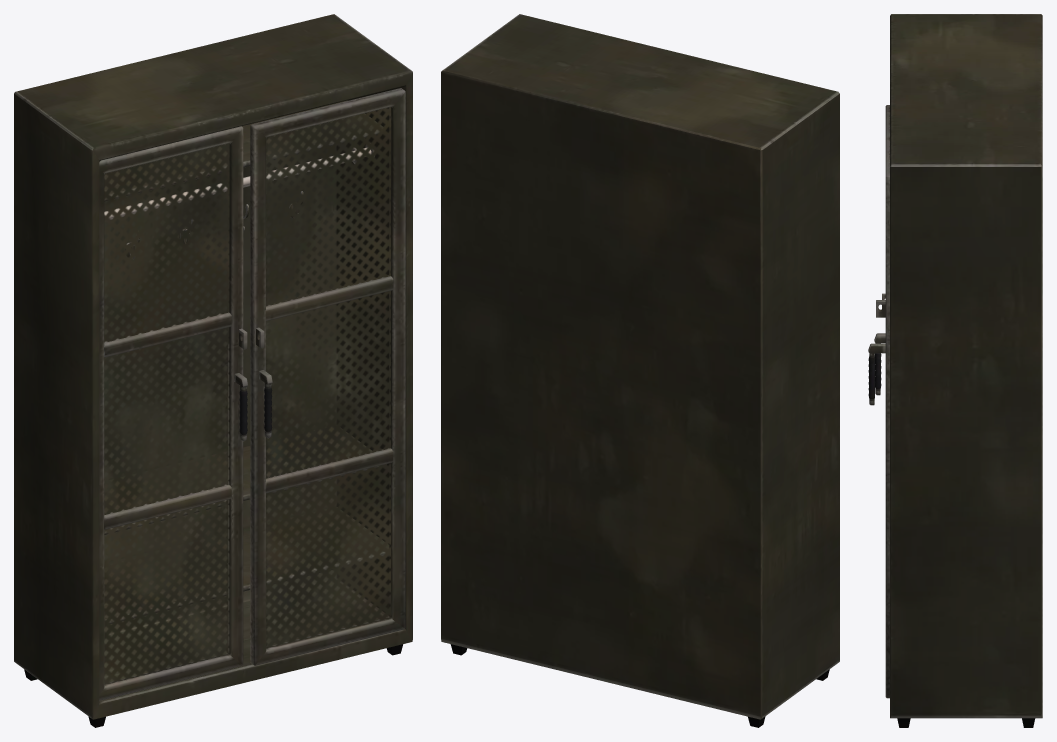
File: locker.glb
The picture shows the model from 3 angles, left to right: view 1: azimuth 30°, elevation 25°; view 2: azimuth 150°, elevation 25°; view 3: azimuth 270°, elevation 25°; orthographic projection. The views are drawn at different scales.
Parts seen in each view (by area): view 1: locker_body, door_R, door_L; view 2: locker_body; view 3: locker_body, door_R, door_L.
Boxes of the visible parts, left/top/right/bottom form: locker_body: left=14, top=14, right=412, bottom=727; door_R: left=250, top=88, right=405, bottom=665; door_L: left=99, top=126, right=247, bottom=700; locker_body: left=441, top=14, right=839, bottom=727; locker_body: left=890, top=14, right=1042, bottom=727; door_R: left=868, top=105, right=889, bottom=698; door_L: left=874, top=293, right=885, bottom=395.
Size of the model in its own units: 1.18 by 2.05 by 0.5704.
2 materials, 2 textured.
